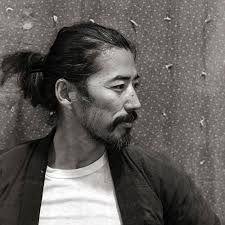asian_male: (39, 19, 161, 160)
